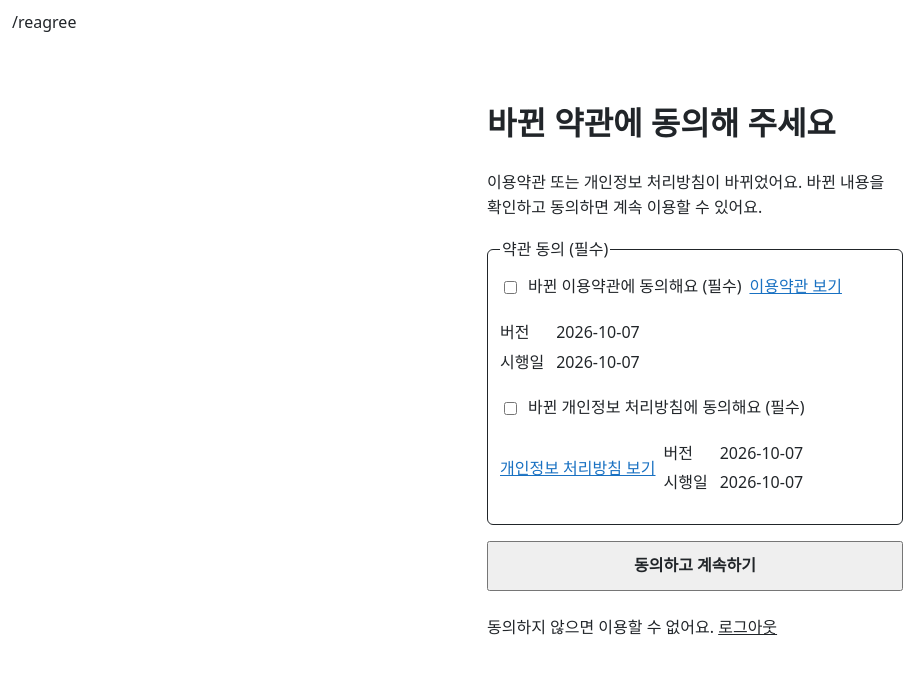
Scenario: 재동의 화면·가드 (FR-012, SC-011) › 버전이 바뀌었으면(AGREEMENT_VERSION_MISMATCH) 알리고 새 버전을 다시 읽는다
Click the checkbox labelled "바뀐 이용약관에 동의해요 (필수)".
click(510, 287)  # box 504,281 -> 517,294
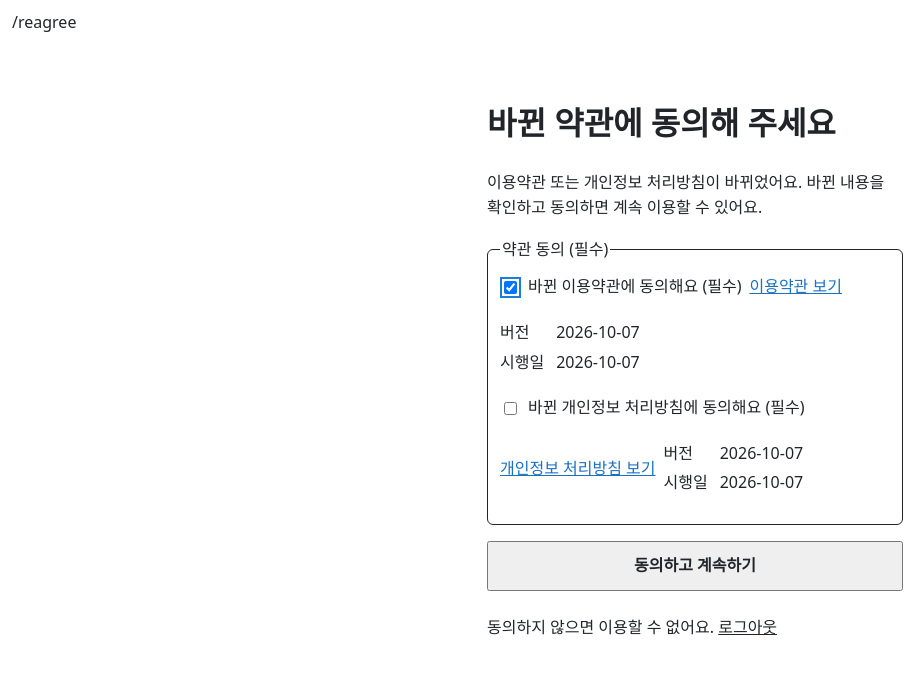
Click the checkbox labelled "바뀐 개인정보 처리방침에 동의해요 (필수)".
click(510, 408)  # box 504,402 -> 517,414
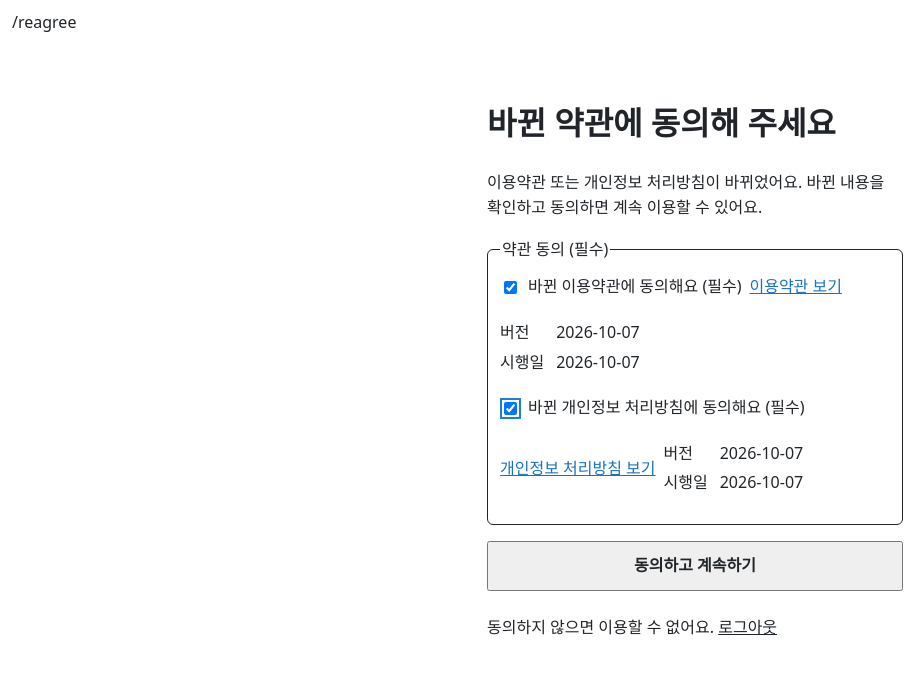
Click the button "동의하고 계속하기".
click(695, 566)  # box 487,541 -> 903,591
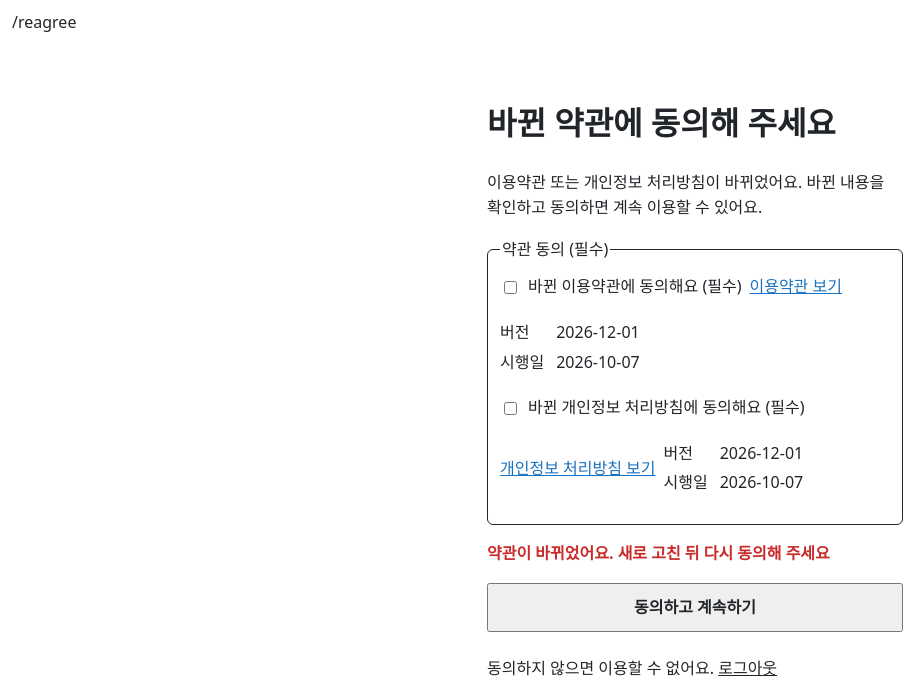
Expected: the message shows "약관이 바뀌었어요", 487,542 -> 830,564
Expected: the text "2026-12-01" below "바뀐 이용약관에 동의해요 (필수)" is shown, 556,321 -> 640,343
